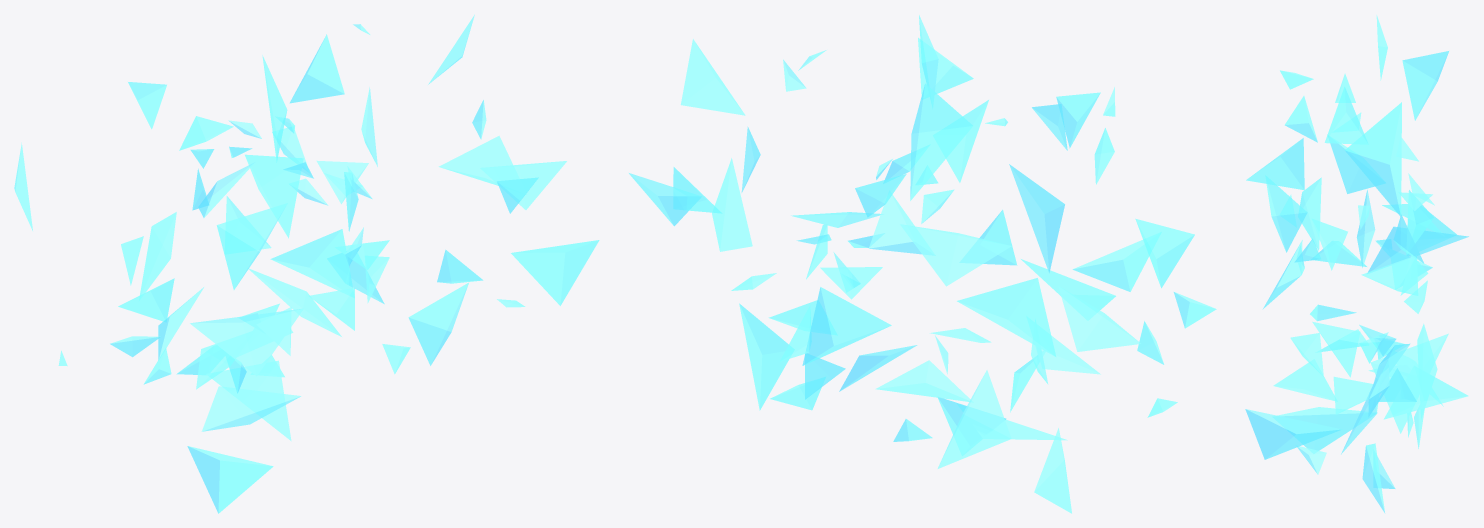
File: lusion-portal-shards-v02.glb
3 renders of one model, left to right at view 1: azimuth 30°, elevation 25°; view 2: azimuth 150°, elevation 25°; view 3: azimuth 270°, elevation 25°, orthographic. The views are drawn at different scales.
Visible parts, largest first — view 1: Portal_Shard_012, Portal_Shard_016, Portal_Shard_031, Portal_Shard_053, Portal_Shard_047, Portal_Shard_052, Portal_Shard_013, Portal_Shard_007, Portal_Shard_017, Portal_Shard_022, Portal_Shard_008, Portal_Shard_027 (+20 smaller); view 2: Portal_Shard_055, Portal_Shard_039, Portal_Shard_053, Portal_Shard_026, Portal_Shard_009, Portal_Shard_022, Portal_Shard_032, Portal_Shard_047, Portal_Shard_028, Portal_Shard_031, Portal_Shard_004, Portal_Shard_013 (+24 smaller); view 3: Portal_Shard_055, Portal_Shard_000, Portal_Shard_052, Portal_Shard_031, Portal_Shard_020, Portal_Shard_013, Portal_Shard_038, Portal_Shard_049, Portal_Shard_005, Portal_Shard_004, Portal_Shard_008, Portal_Shard_056 (+36 smaller).
Part boxes in pixels (bbox=[...]): Portal_Shard_012: bbox=[190, 308, 303, 376]; Portal_Shard_016: bbox=[207, 360, 291, 441]; Portal_Shard_031: bbox=[511, 240, 599, 305]; Portal_Shard_053: bbox=[270, 229, 353, 296]; Portal_Shard_047: bbox=[216, 203, 287, 289]; Portal_Shard_052: bbox=[187, 446, 273, 513]; Portal_Shard_013: bbox=[245, 154, 303, 238]; Portal_Shard_007: bbox=[201, 386, 301, 431]; Portal_Shard_017: bbox=[438, 135, 527, 194]; Portal_Shard_022: bbox=[408, 282, 468, 365]; Portal_Shard_008: bbox=[289, 34, 344, 103]; Portal_Shard_027: bbox=[480, 161, 566, 209]; Portal_Shard_055: bbox=[910, 83, 972, 200]; Portal_Shard_039: bbox=[957, 278, 1056, 356]; Portal_Shard_053: bbox=[802, 287, 891, 365]; Portal_Shard_026: bbox=[900, 224, 1011, 286]; Portal_Shard_009: bbox=[937, 370, 1011, 468]; Portal_Shard_022: bbox=[739, 303, 793, 410]; Portal_Shard_032: bbox=[1058, 286, 1140, 351]; Portal_Shard_047: bbox=[1009, 164, 1064, 273]; Portal_Shard_028: bbox=[680, 39, 745, 115]; Portal_Shard_031: bbox=[712, 158, 752, 251]; Portal_Shard_004: bbox=[1072, 233, 1160, 291]; Portal_Shard_013: bbox=[868, 191, 934, 254]; Portal_Shard_055: bbox=[1345, 102, 1401, 216]; Portal_Shard_000: bbox=[1370, 333, 1448, 433]; Portal_Shard_052: bbox=[1273, 407, 1377, 453]; Portal_Shard_031: bbox=[1245, 409, 1342, 459]; Portal_Shard_020: bbox=[1383, 365, 1468, 419]; Portal_Shard_013: bbox=[1367, 226, 1468, 273]; Portal_Shard_038: bbox=[1402, 51, 1448, 120]; Portal_Shard_049: bbox=[1246, 138, 1304, 190]; Portal_Shard_005: bbox=[1266, 176, 1307, 252]; Portal_Shard_004: bbox=[1328, 136, 1385, 193]; Portal_Shard_008: bbox=[1324, 87, 1368, 144]; Portal_Shard_056: bbox=[1361, 256, 1418, 295].
Size of the model in its own units: 5.68 by 4.44 by 2.12.
